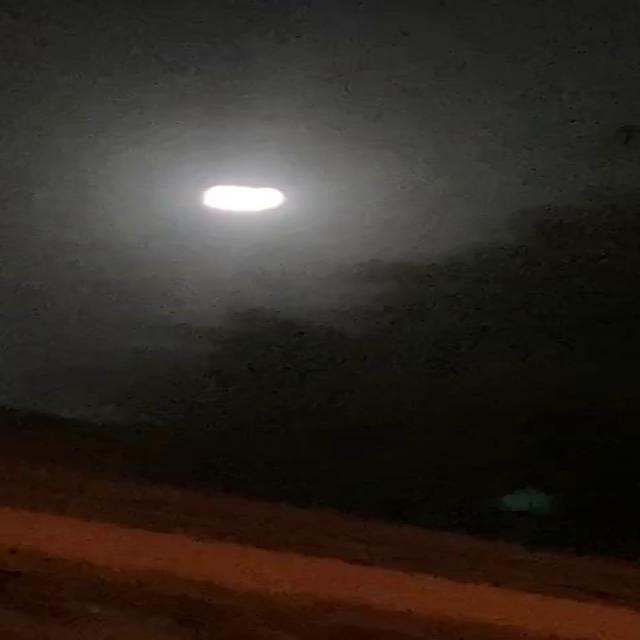moon: (188, 186, 271, 225)
